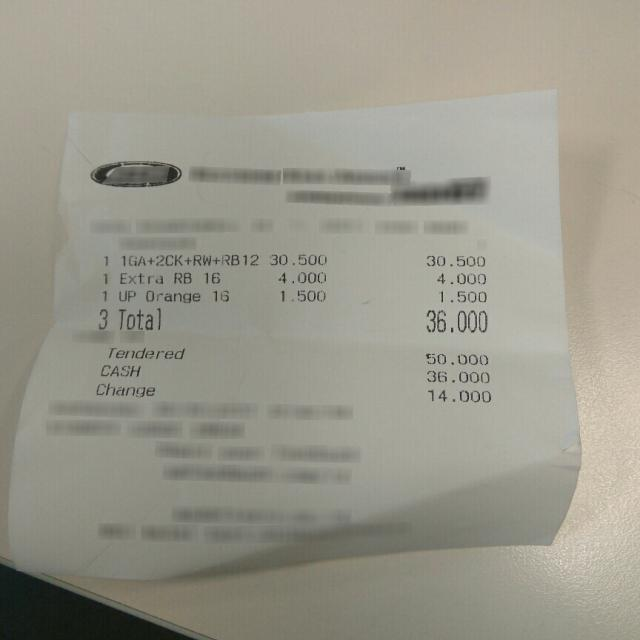kertas: (0, 91, 586, 585)
